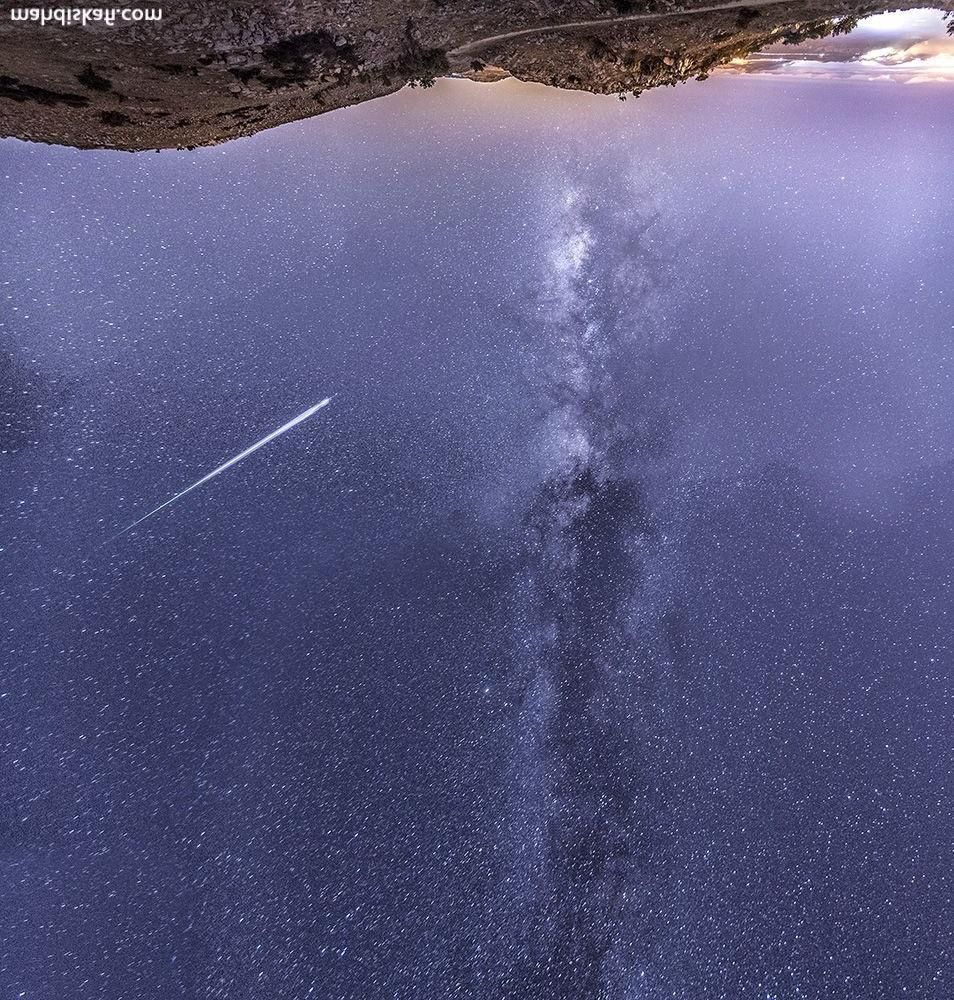meteorite: (94, 379, 358, 544)
